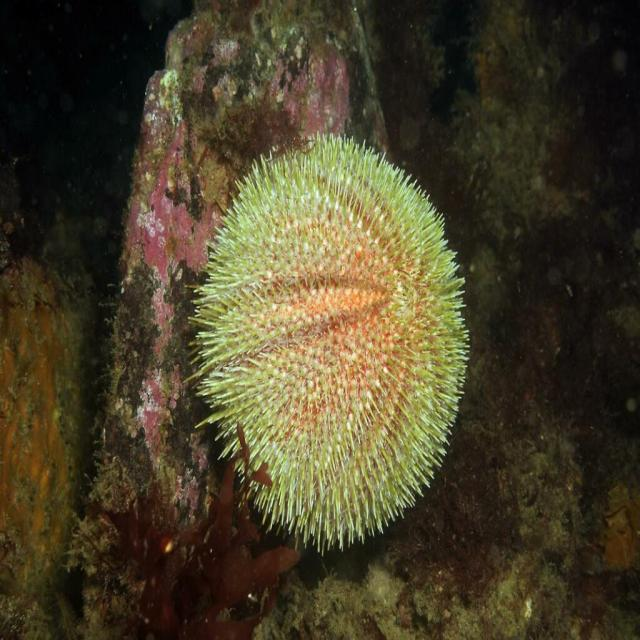Deniz Kestanesi: (185, 130, 472, 556)
